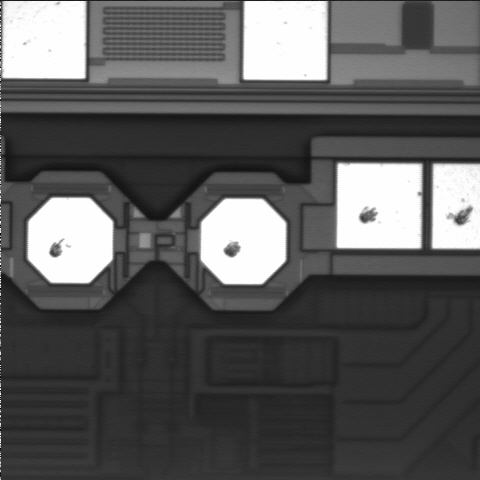pad: (28, 198, 113, 283), (201, 199, 286, 284), (337, 164, 422, 248)
